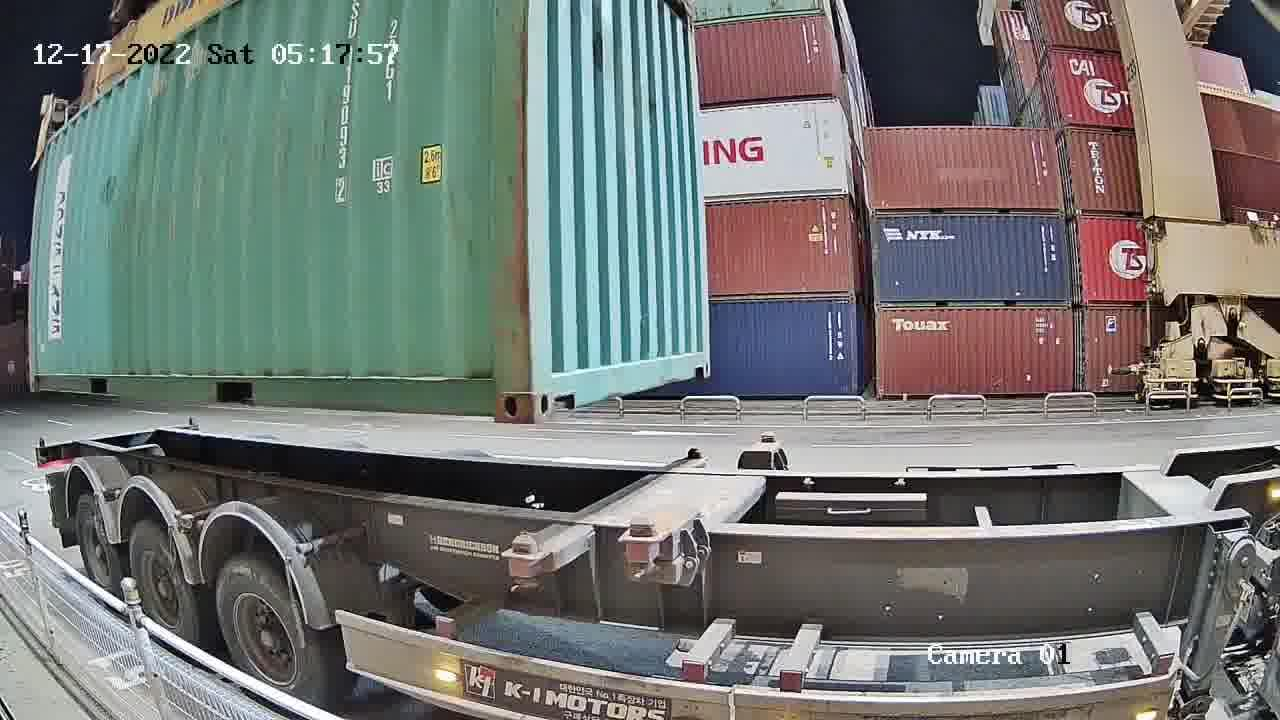Chassis: (510, 449, 713, 576)
Cone: (511, 570, 548, 599)
Container: (536, 324, 711, 427)
Hole_L: (534, 327, 575, 427)
Hole_R: (470, 330, 538, 424), (688, 326, 712, 380)
Tire: (212, 558, 325, 701), (126, 525, 201, 642), (72, 499, 123, 600)
